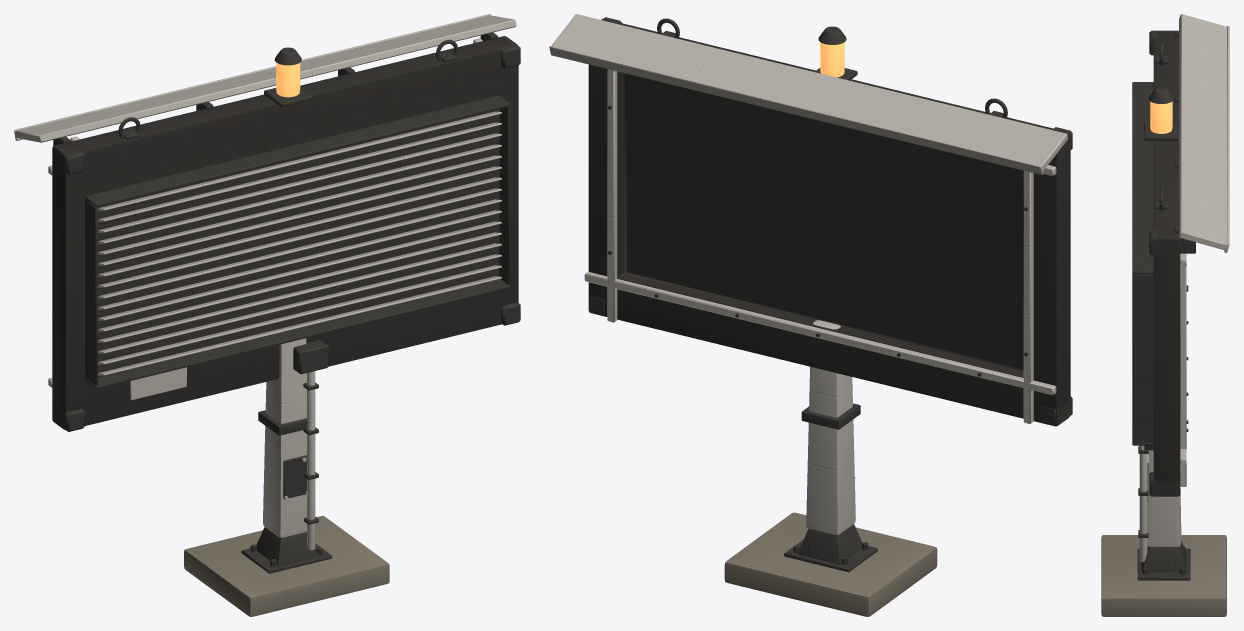
Rendered from telemetry_board.glb.
3 views of the same model, side by side, from view 1: azimuth 30°, elevation 25°; view 2: azimuth 150°, elevation 25°; view 3: azimuth 270°, elevation 25° (orthographic). The views are drawn at different scales.
Visible parts, largest first — view 1: spine, shell, plinth, visor, cowl.001, post, cowl, cheek, cheek.001, fin.004, fin.005, fin.006 (+21 smaller); view 2: shell, visor, plinth, post, visor_lip, rail_lo, stile, stile.001, boot, sole, beacon_lens, splice; view 3: visor, shell, plinth, cowl.001, cheek.001, post, stile.001, boot, conduit, beacon_lens, visor_lip, sole (+6 smaller).
Boxes of the visible parts, x1,y1,x2,y2 form: spine: (98, 109, 499, 376); shell: (52, 36, 518, 430); plinth: (184, 516, 389, 616); visor: (15, 15, 516, 142); cowl.001: (85, 95, 510, 207); post: (263, 338, 306, 537); cowl: (85, 279, 510, 389); cheek: (85, 199, 97, 385); cheek.001: (499, 106, 510, 284); fin.004: (98, 232, 501, 331); fin.005: (98, 221, 501, 320); fin.006: (98, 210, 501, 309); shell: (588, 19, 1070, 426); visor: (552, 14, 1067, 170); plinth: (724, 512, 937, 616); post: (806, 320, 855, 535); visor_lip: (549, 45, 1043, 174); rail_lo: (584, 272, 1056, 395); stile: (1023, 170, 1033, 423); stile.001: (607, 69, 617, 322); boot: (798, 524, 862, 564); sole: (784, 539, 877, 572); beacon_lens: (820, 42, 844, 77); splice: (801, 403, 860, 429); visor: (1179, 14, 1227, 250); shell: (1153, 31, 1179, 496); plinth: (1101, 535, 1226, 616); cowl.001: (1132, 82, 1153, 274); cheek.001: (1133, 274, 1153, 442); post: (1147, 450, 1181, 546); stile.001: (1180, 266, 1186, 486); boot: (1141, 540, 1186, 572); conduit: (1139, 445, 1147, 562); beacon_lens: (1150, 101, 1172, 133); visor_lip: (1224, 26, 1229, 252); sole: (1137, 548, 1190, 580).
Bounding box in the file's own units: 3.9 × 4.13 × 0.9709.
Materials: 5 (4 with a texture image).
